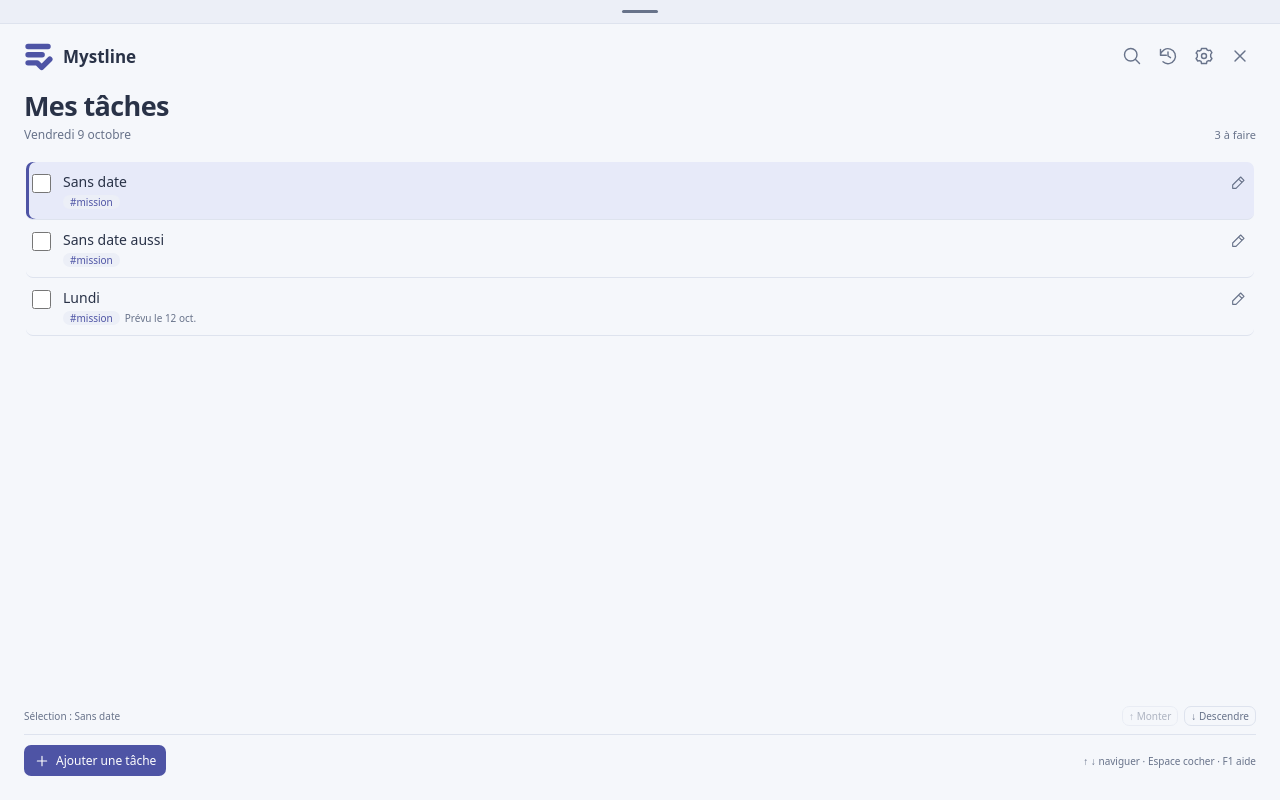
it: regroupements fonctionnels validés › les boutons de déplacement suivent la sélection et respectent les bornes de rang
Expected: the button with aria-label "Monter : Sans date" is disabled, [1122, 706, 1178, 726]
# Quand la première tâche est descendue à la souris.
Click the button with aria-label "Descendre : Sans date". click: (1220, 716)
box: [1184, 706, 1256, 726]
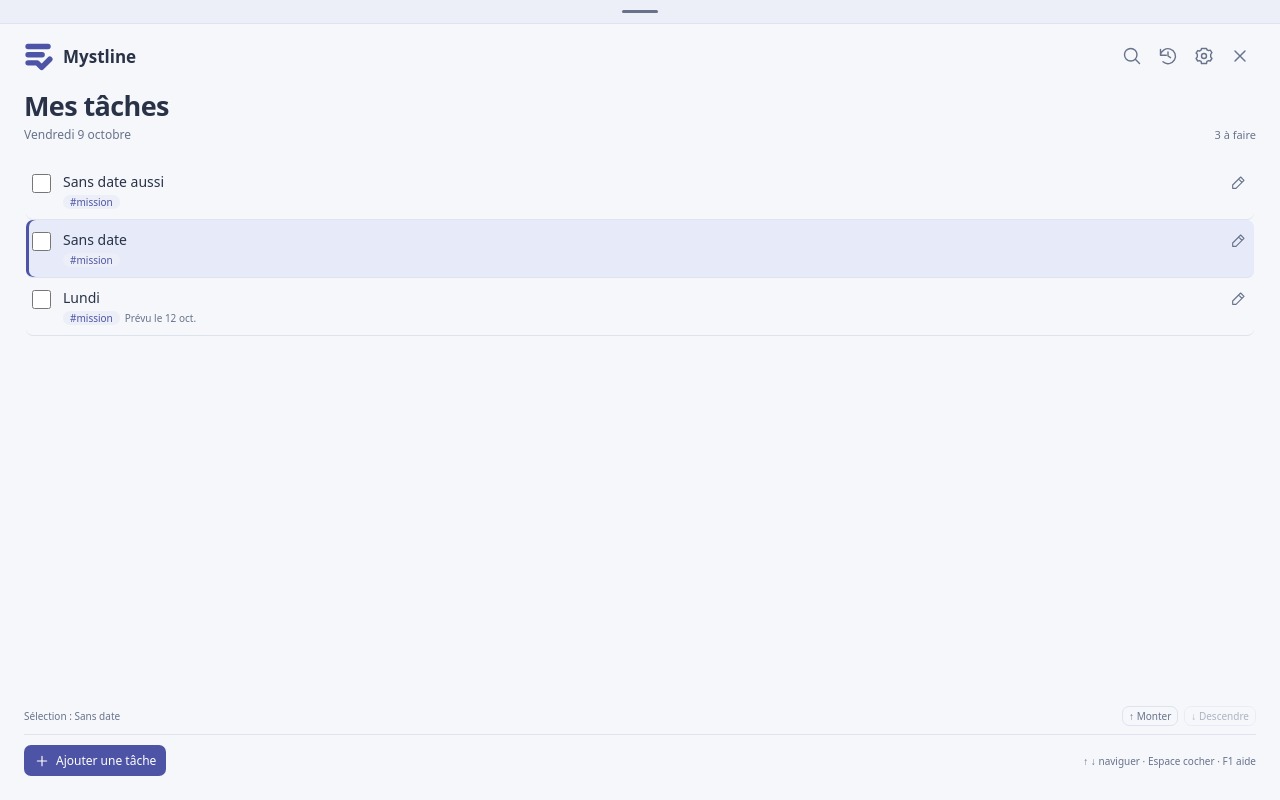
Now the button with aria-label "Descendre : Sans date" is disabled, box [1184, 706, 1256, 726]
